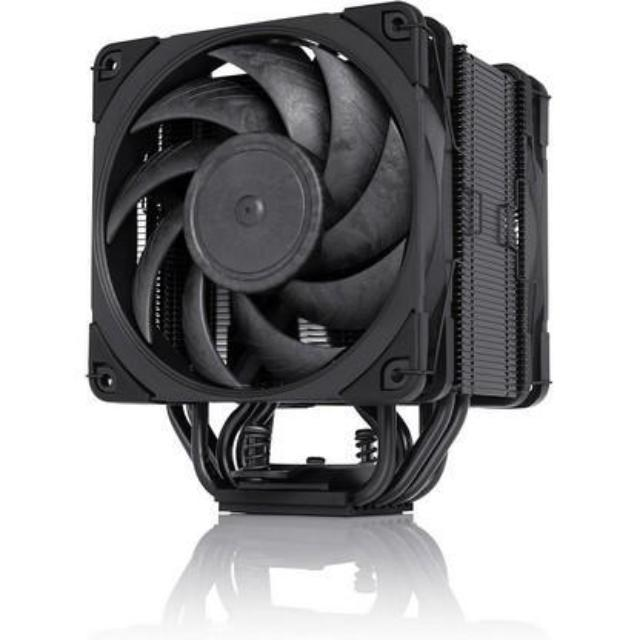CPU_Fan: (94, 2, 551, 520)
